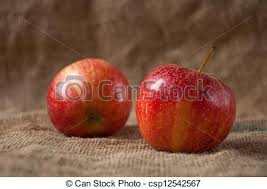apple: (141, 65, 238, 152), (51, 59, 126, 134)
